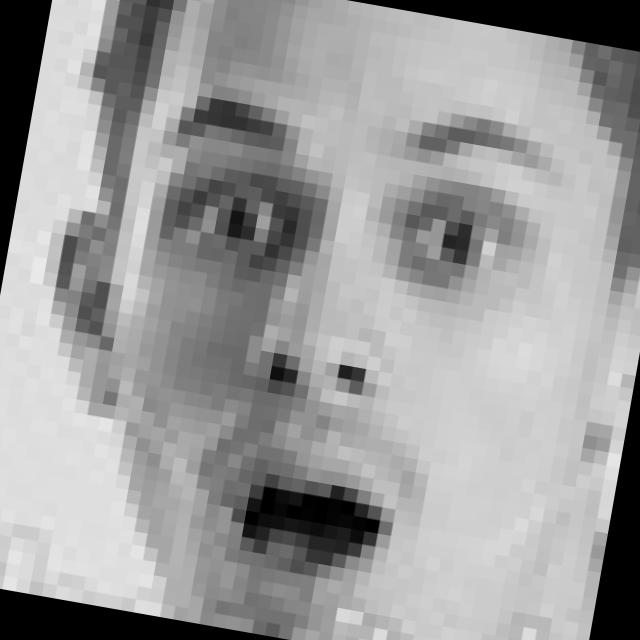surprise: (76, 59, 581, 616)
